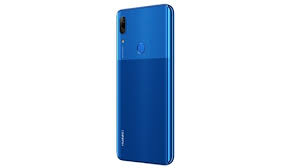huawei: (113, 2, 178, 166)
